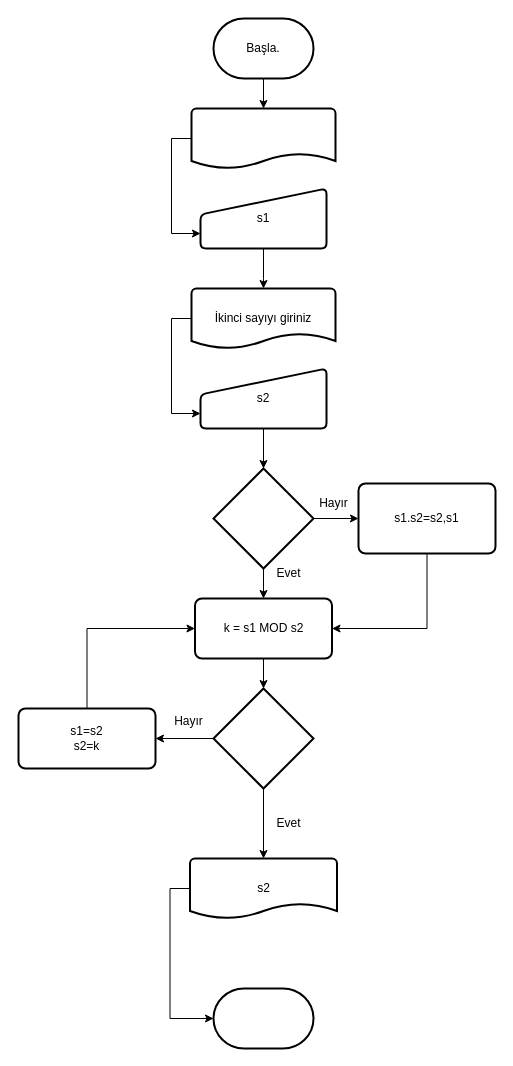
Some shapes in this 513 by 1066 pixel diagram are drawn without their labels. The shapes that lost their labels are listed below. From the top down, each one's centre as x and y in pixels, then its label:
At point (263, 138): "Birinci sayıyı giriniz.".
At point (263, 518): "s1>s1".
At point (263, 738): "k=0".
At point (263, 1018): "Bitir.".
